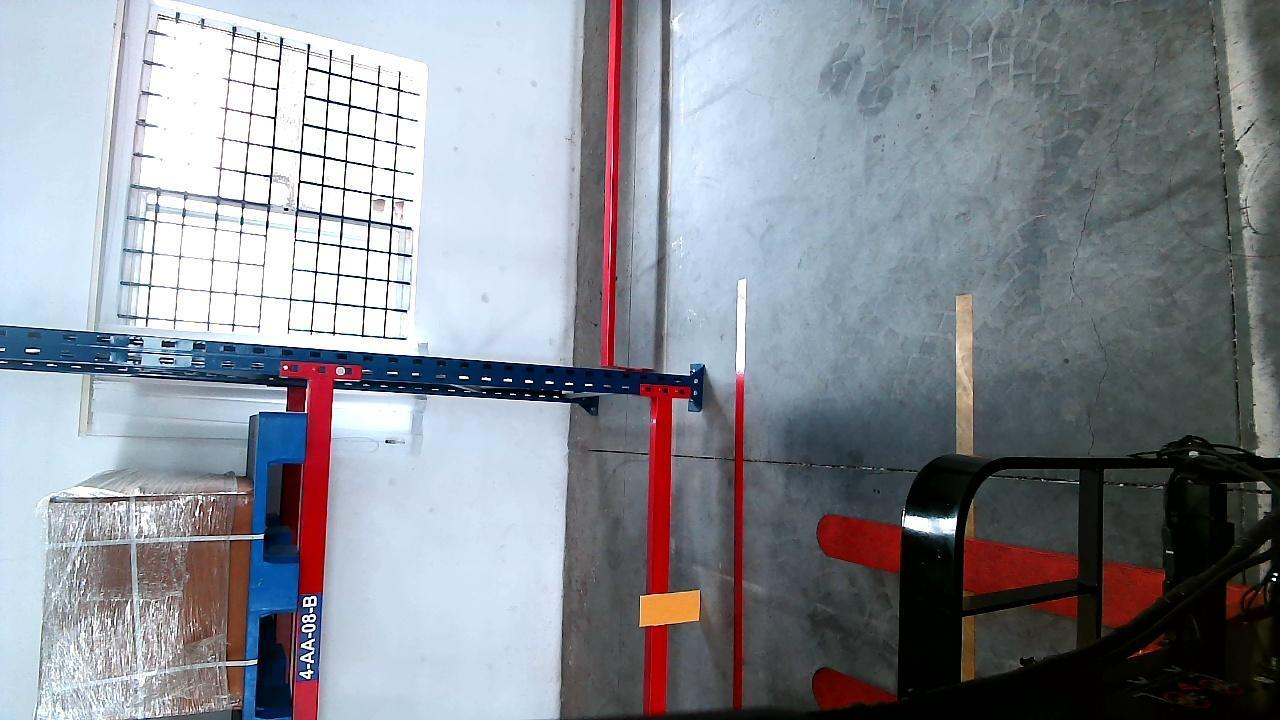h_rack: (292, 389, 334, 715), (646, 404, 676, 707)
orange_strip: (643, 590, 702, 626)
red_line: (728, 308, 749, 711)
small_pallet: (243, 420, 304, 720)
yellow_line: (954, 292, 973, 453)
